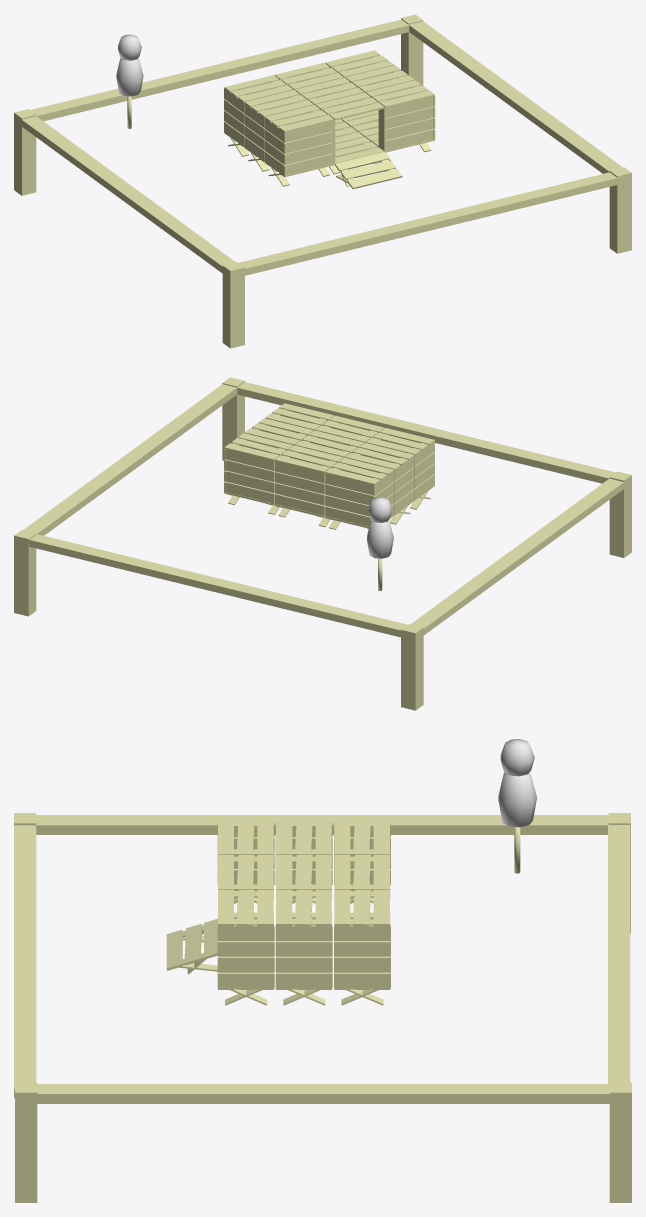
File: chickenCoop.glb
The picture shows the model from 3 angles, top to bottom: view 1: azimuth 30°, elevation 25°; view 2: azimuth 150°, elevation 25°; view 3: azimuth 270°, elevation 25°; orthographic projection. The views are drawn at different scales.
Parts seen in each view (by area): view 1: Cube.132, Cube.012, Cube.013, Cube.118, Cube.010, Cube.011, Cube.006, Cube.007, Cube.008, Cube.004, Sphere.001, Cube.009 (+2 smaller); view 2: Cube.132, Cube.118, Cube.013, Cube.012, Cube.010, Cube.011, Cube.008, Cube.009, Cube.006, Sphere.001, Cube.007, Cube.103 (+2 smaller); view 3: Cube.132, Cube.011, Cube.118, Cube.010, Cube.012, Cube.013, Sphere.001, Cube.007, Cube.009, Cube.004, Cube.106, Cube.104 (+1 smaller).
Boxes of the visible parts, x1=… form: Cube.132: x1=224, y1=50, x2=434, y2=132; Cube.012: x1=239, y1=172, x2=623, y2=275; Cube.013: x1=30, y1=19, x2=409, y2=121; Cube.118: x1=224, y1=68, x2=435, y2=164; Cube.010: x1=22, y1=116, x2=235, y2=273; Cube.011: x1=409, y1=21, x2=622, y2=173; Cube.006: x1=222, y1=262, x2=244, y2=348; Cube.007: x1=609, y1=167, x2=631, y2=253; Cube.008: x1=14, y1=109, x2=36, y2=195; Cube.004: x1=335, y1=152, x2=402, y2=189; Sphere.001: x1=116, y1=34, x2=143, y2=128; Cube.009: x1=401, y1=14, x2=423, y2=85; Cube.132: x1=224, y1=403, x2=434, y2=485; Cube.118: x1=224, y1=425, x2=434, y2=516; Cube.013: x1=29, y1=534, x2=407, y2=637; Cube.012: x1=237, y1=382, x2=615, y2=483; Cube.010: x1=411, y1=478, x2=623, y2=635; Cube.011: x1=23, y1=384, x2=236, y2=535; Cube.008: x1=401, y1=624, x2=423, y2=710; Cube.009: x1=14, y1=530, x2=36, y2=616; Cube.006: x1=609, y1=471, x2=631, y2=557; Sphere.001: x1=367, y1=497, x2=393, y2=590; Cube.007: x1=222, y1=377, x2=244, y2=460; Cube.103: x1=275, y1=494, x2=325, y2=515; Cube.132: x1=218, y1=819, x2=390, y2=926; Cube.011: x1=30, y1=1084, x2=620, y2=1103; Cube.118: x1=217, y1=821, x2=390, y2=972; Cube.010: x1=36, y1=815, x2=608, y2=834; Cube.012: x1=14, y1=825, x2=36, y2=1098; Cube.013: x1=608, y1=820, x2=630, y2=1083; Sphere.001: x1=498, y1=739, x2=536, y2=873; Cube.007: x1=15, y1=1082, x2=37, y2=1202; Cube.009: x1=609, y1=1082, x2=631, y2=1202; Cube.004: x1=166, y1=918, x2=217, y2=974; Cube.106: x1=275, y1=972, x2=332, y2=988; Cube.104: x1=217, y1=972, x2=274, y2=988.
Bounding box in the file's own units: 3.18 × 1.25 × 2.98.
